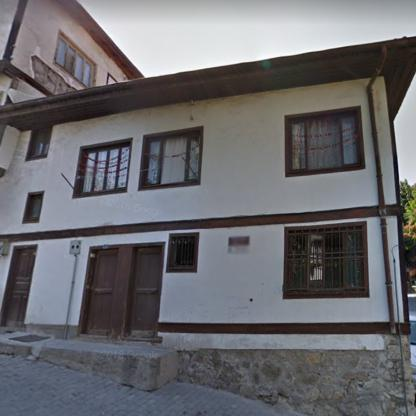door: (128, 248, 162, 336), (86, 252, 116, 332), (4, 249, 34, 323)
window: (286, 225, 364, 292), (290, 112, 360, 172), (143, 132, 199, 185), (78, 145, 129, 194), (55, 34, 93, 88), (170, 238, 195, 267), (30, 127, 50, 158)
